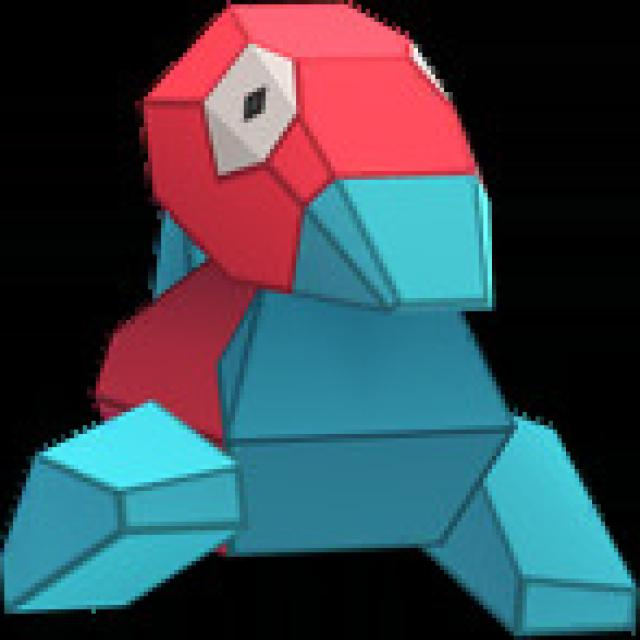Porygon: (80, 2, 536, 579)
